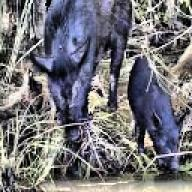boar: (28, 0, 134, 176)
